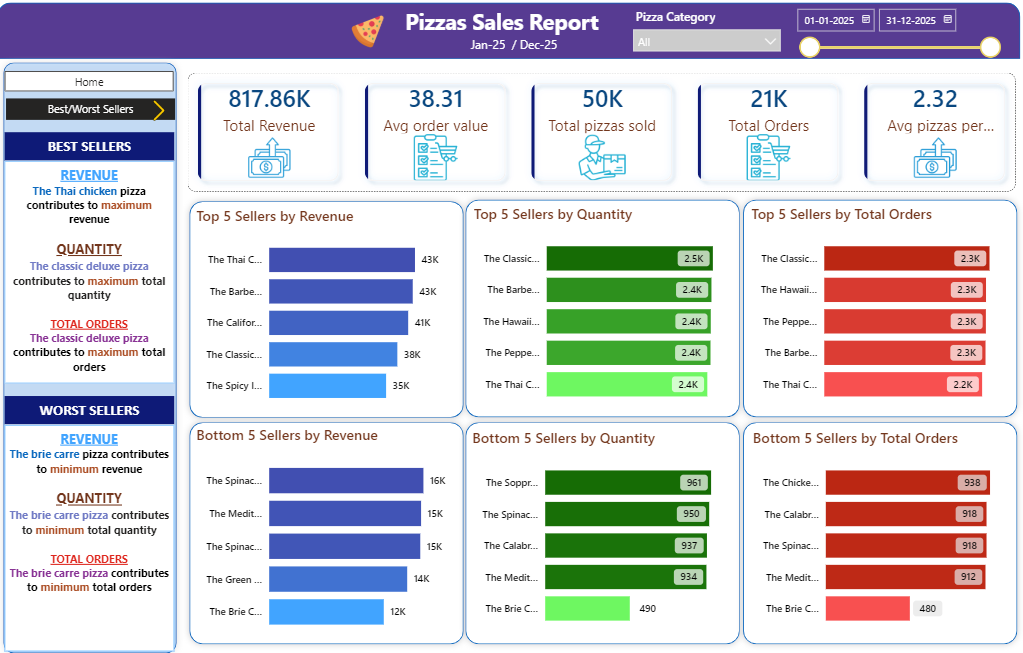

Layout of this report page (visuals, bound fields, positions):
{"tool":"powerbi","page":{"name":"Best/Worst Sellers","canvas":[1280,820],"ordinal":1},"visuals":[{"type":"cardVisual","fields":{"Data":["pizza_sales.Total Revenue","pizza_sales.Avg order value","pizza_sales.total pizzas sold","pizza_sales.Total Orders","pizza_sales.Avg pizzas per order"]},"box":[219.3,75.3,1060.2,181.6],"z":0},{"type":"shape","box":[13.2,5.7,1252.8,69.8],"z":1000},{"type":"textbox","box":[500,5.7,277.4,47.2],"z":2000},{"type":"textbox","box":[573.6,41.5,132.1,41.5],"z":3000},{"type":"image","box":[432.1,20.8,52.8,41.5],"z":4000},{"type":"shape","box":[230.1,243.5,355.2,283.9],"z":5000},{"type":"shape","box":[0,71.3,230.1,748],"z":6000},{"type":"textbox","box":[9.4,166.8,209.9,35],"z":7000},{"type":"textbox","box":[9.4,201.8,209.9,274.5],"z":8000},{"type":"textbox","box":[9.4,492.4,209.9,35],"z":9000},{"type":"textbox","box":[9.4,527.4,209.9,279.8],"z":10000},{"type":"slicer","fields":{"Values":["pizza_sales.pizza_category"]},"box":[777.6,8.1,201.8,63.2],"z":11000},{"type":"slicer","fields":{"Values":["pizza_sales.order_date"]},"box":[978.1,4,273.1,74],"z":12000},{"type":"shape","box":[571.8,242.2,355.2,285.2],"z":13000},{"type":"shape","box":[914.9,242.2,355.2,285.2],"z":14000},{"type":"shape","box":[230.1,516.6,355.2,290.6],"z":15000},{"type":"shape","box":[571.8,516.6,355.2,290.6],"z":16000},{"type":"shape","box":[914.9,516.6,355.2,290.6],"z":17000},{"type":"barChart","title":"Top 5 Sellers by Revenue","fields":{"Category":["pizza_sales.pizza_name"],"Y":["pizza_sales.Total Revenue"]},"box":[242.2,257,329.6,259.7],"z":18000},{"type":"barChart","title":"Bottom 5 Sellers by Revenue","fields":{"Category":["pizza_sales.pizza_name"],"Y":["pizza_sales.Total Revenue"]},"box":[242.2,527.4,329.6,269.1],"z":19000},{"type":"barChart","title":"Top 5 Sellers by Quantity","fields":{"Category":["pizza_sales.pizza_name"],"Y":["pizza_sales.Total pizzas sold"]},"box":[585.2,254.3,329.6,259.7],"z":20000},{"type":"barChart","title":"Top 5 Sellers by Total Orders","fields":{"Category":["pizza_sales.pizza_name"],"Y":["pizza_sales.Total Orders"]},"box":[928.3,254.3,329.6,259.7],"z":21000},{"type":"barChart","title":"Bottom 5 Sellers by Quantity","fields":{"Category":["pizza_sales.pizza_name"],"Y":["pizza_sales.Total pizzas sold"]},"box":[583.9,532.8,329.6,259.7],"z":22000},{"type":"barChart","title":"Bottom 5 Sellers by Total Orders","fields":{"Category":["pizza_sales.pizza_name"],"Y":["pizza_sales.Total Orders"]},"box":[929.7,531.4,329.6,259.7],"z":23000},{"type":"pageNavigator","box":[10.8,125.1,209.9,26.9],"z":24000},{"type":"pageNavigator","box":[9.4,90.1,209.9,25.6],"z":25000},{"type":"image","box":[180.3,126.5,39,25.6],"z":25001}]}

Visuals, with their boxes in screenshot pixels (x1, y1, x2, y2), scaled from the page's 1280x820 canvas onto the 1023x653 screenshot:
cardVisual - pizza_sales.Total Revenue x pizza_sales.Avg order value: Rect(175, 60, 1022, 205)
shape: Rect(11, 5, 1012, 60)
textbox: Rect(400, 5, 621, 42)
textbox: Rect(458, 33, 564, 66)
image: Rect(345, 17, 388, 50)
shape: Rect(184, 194, 468, 420)
shape: Rect(0, 57, 184, 652)
textbox: Rect(8, 133, 175, 161)
textbox: Rect(8, 161, 175, 379)
textbox: Rect(8, 392, 175, 420)
textbox: Rect(8, 420, 175, 643)
slicer - pizza_sales.pizza_category: Rect(621, 6, 783, 57)
slicer - pizza_sales.order_date: Rect(782, 3, 1000, 62)
shape: Rect(457, 193, 741, 420)
shape: Rect(731, 193, 1015, 420)
shape: Rect(184, 411, 468, 643)
shape: Rect(457, 411, 741, 643)
shape: Rect(731, 411, 1015, 643)
"Top 5 Sellers by Revenue" barChart: Rect(194, 205, 457, 411)
"Bottom 5 Sellers by Revenue" barChart: Rect(194, 420, 457, 634)
"Top 5 Sellers by Quantity" barChart: Rect(468, 203, 731, 409)
"Top 5 Sellers by Total Orders" barChart: Rect(742, 203, 1005, 409)
"Bottom 5 Sellers by Quantity" barChart: Rect(467, 424, 730, 631)
"Bottom 5 Sellers by Total Orders" barChart: Rect(743, 423, 1006, 630)
pageNavigator: Rect(9, 100, 176, 121)
pageNavigator: Rect(8, 72, 175, 92)
image: Rect(144, 101, 175, 121)
